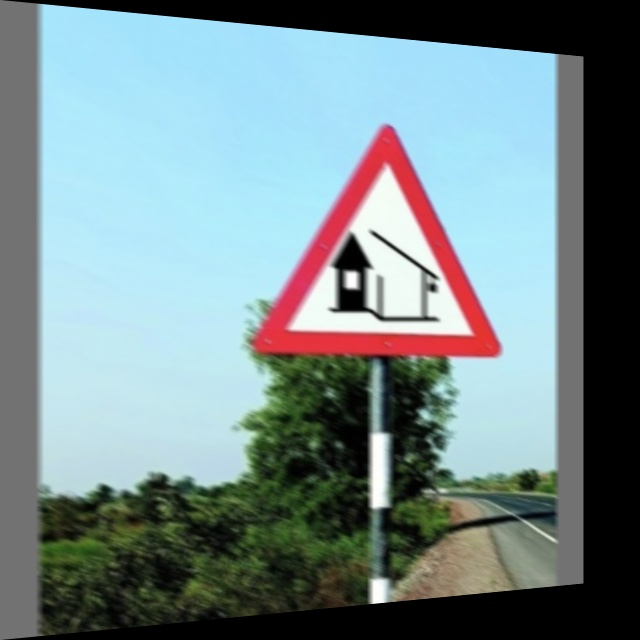Barrier_Ahead: (253, 117, 502, 364)
